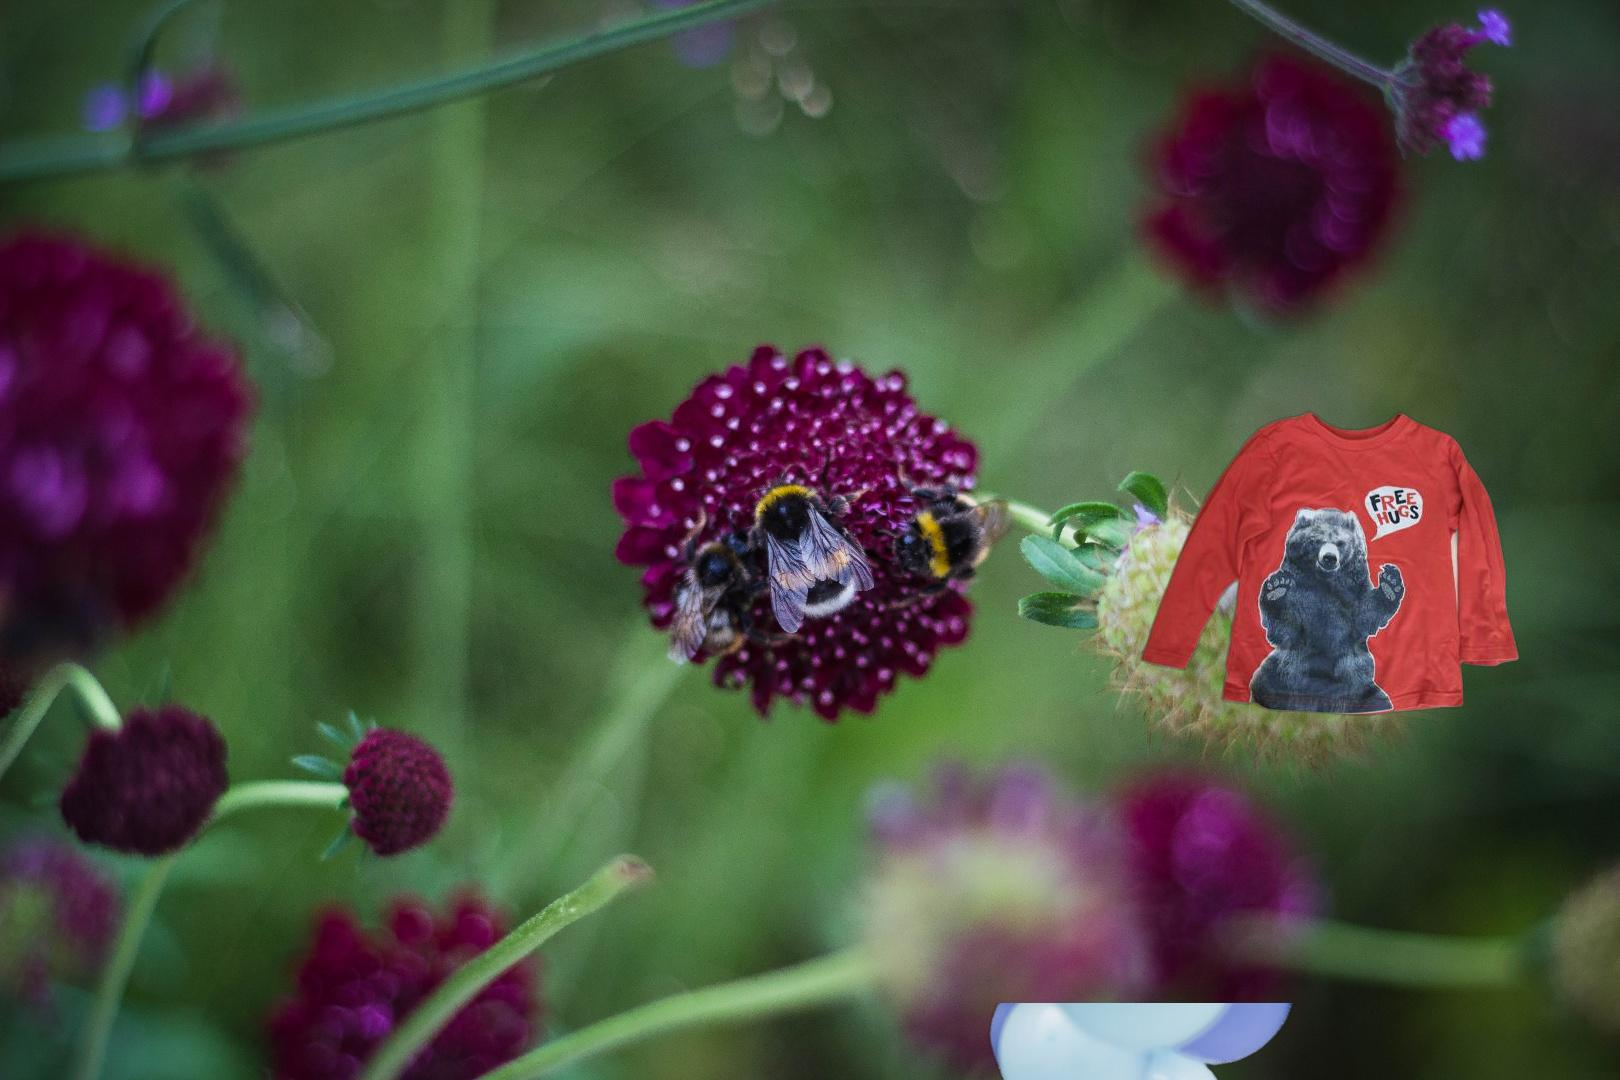clothes: (1138, 407, 1522, 720)
trashbox-cardboard: (926, 1003, 1301, 1080)
